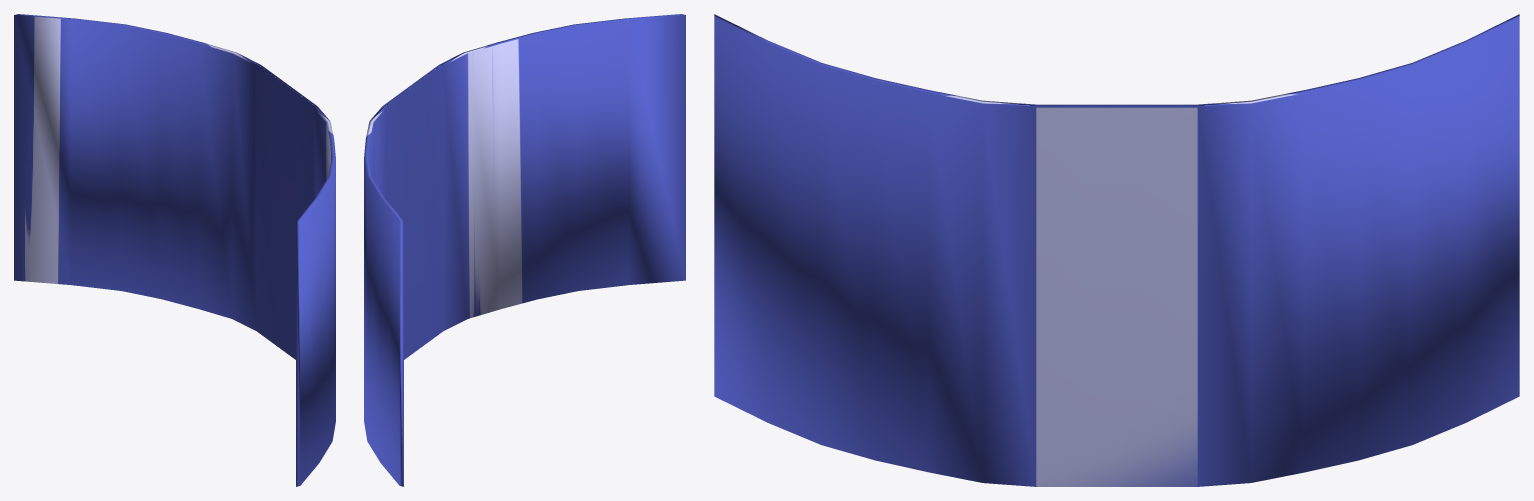
File: tablecloth.fbx
The picture shows the model from 3 angles, left to right: view 1: azimuth 30°, elevation 25°; view 2: azimuth 150°, elevation 25°; view 3: azimuth 270°, elevation 25°; orthographic projection. The views are drawn at different scales.
Parts seen in each view (by area): view 1: Cube; view 2: Cube; view 3: Cube.
Boxes of the visible parts, box(x1,y1,x2,y2) form: Cube: box(14, 14, 335, 486); Cube: box(364, 14, 685, 486); Cube: box(714, 14, 1519, 486).
Size of the model in its own units: 63.43 by 120 by 231.
